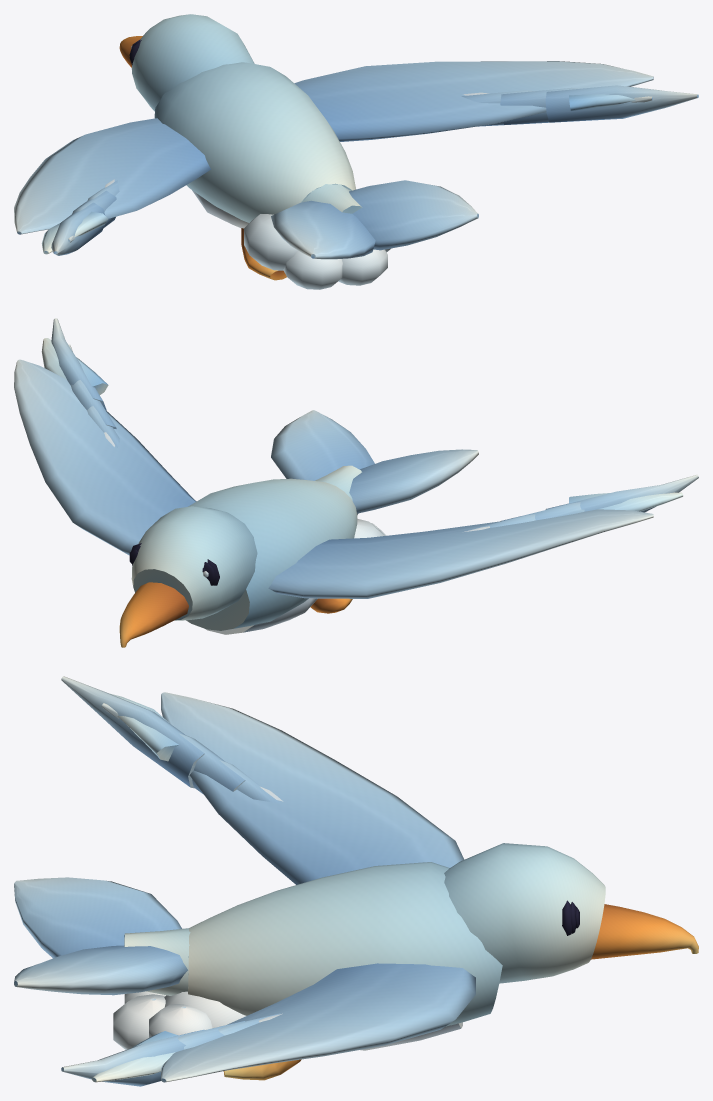
Rendered from C156_Albatroz_das_Nuvens.glb.
3 views of the same model, one above another, from view 1: azimuth 30°, elevation 25°; view 2: azimuth 150°, elevation 25°; view 3: azimuth 270°, elevation 25° (orthographic). The views are drawn at different scales.
Parts seen in each view (by area): view 1: Wings, Body, Tail, Head, Extra_3, Extra_1, Legs; view 2: Wings, Body, Head, Tail, Extra_2, Extra_1, Legs; view 3: Wings, Body, Tail, Head, Extra_3, Extra_2, Extra_1, Legs.
Part boxes in pixels (bbox=[...]): Wings: bbox=[14, 61, 698, 255]; Body: bbox=[154, 62, 355, 228]; Tail: bbox=[271, 180, 478, 259]; Head: bbox=[129, 14, 254, 111]; Extra_3: bbox=[244, 214, 391, 289]; Extra_1: bbox=[41, 87, 661, 254]; Legs: bbox=[241, 228, 286, 280]; Wings: bbox=[14, 318, 698, 598]; Body: bbox=[186, 478, 357, 634]; Head: bbox=[129, 506, 257, 620]; Tail: bbox=[271, 410, 478, 514]; Extra_2: bbox=[119, 582, 188, 647]; Extra_1: bbox=[41, 338, 682, 511]; Legs: bbox=[310, 598, 352, 613]; Wings: bbox=[61, 676, 475, 1086]; Body: bbox=[188, 862, 502, 1050]; Tail: bbox=[14, 877, 190, 995]; Head: bbox=[444, 843, 605, 983]; Extra_3: bbox=[113, 991, 245, 1049]; Extra_2: bbox=[591, 904, 698, 959]; Extra_1: bbox=[92, 693, 178, 1082]; Legs: bbox=[223, 1059, 301, 1080].
Size of the model in its own units: 0.8792 by 0.2149 by 0.6477.
Materials: 1 (1 with a texture image).
